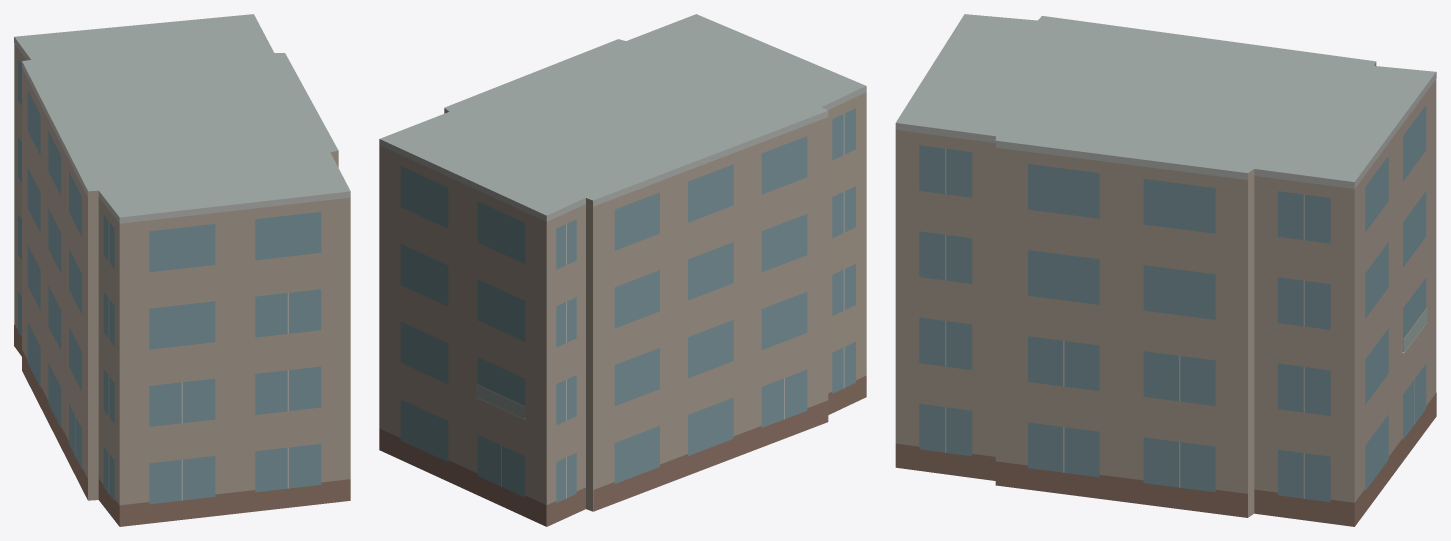
Rendered from survey-upis-32921939.glb.
The picture shows the model from 3 angles, left to right: view 1: azimuth 30°, elevation 25°; view 2: azimuth 150°, elevation 25°; view 3: azimuth 270°, elevation 25°; orthographic projection. The views are drawn at different scales.
Parts seen in each view (by area): view 1: survey-upis-32921939.tmp; view 2: survey-upis-32921939.tmp; view 3: survey-upis-32921939.tmp.
Part boxes in pixels (<box>): survey-upis-32921939.tmp: <box>14,14,350,526</box>; survey-upis-32921939.tmp: <box>379,14,866,526</box>; survey-upis-32921939.tmp: <box>895,14,1436,526</box>.
Bounding box in the file's own units: 12.77 × 12.2 × 17.35.
